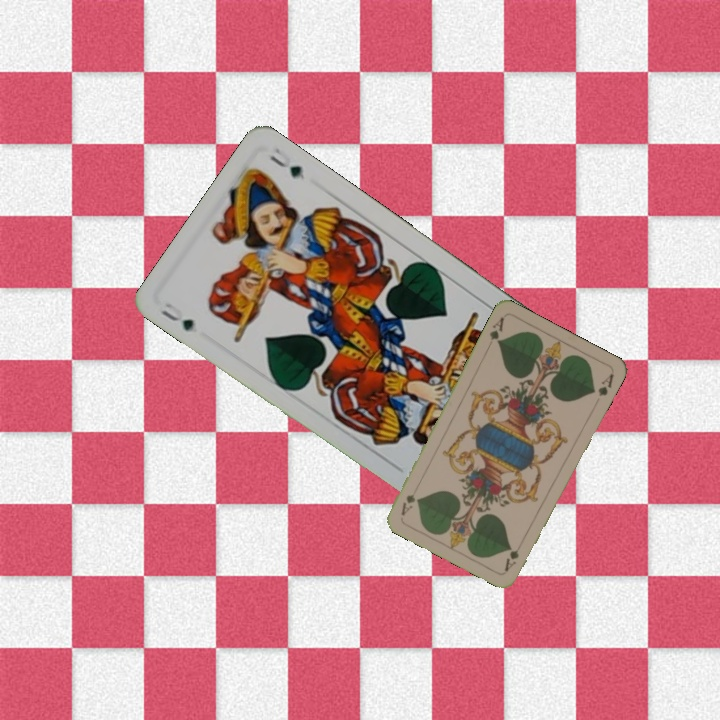GA: (485, 313, 507, 346), (500, 546, 522, 574)
GU: (156, 298, 197, 334)
